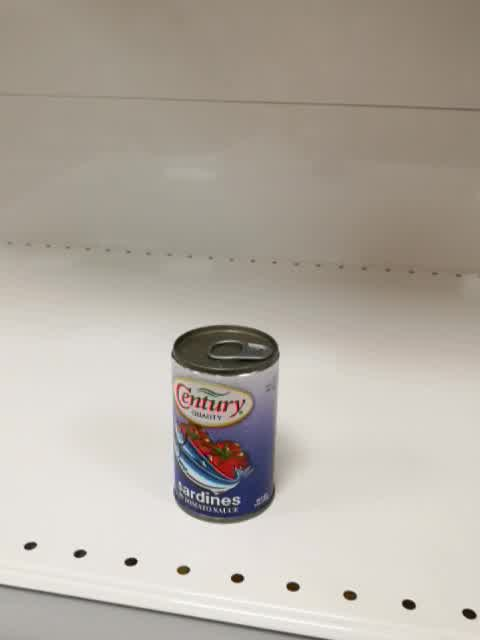sardine: (171, 323, 280, 524)
